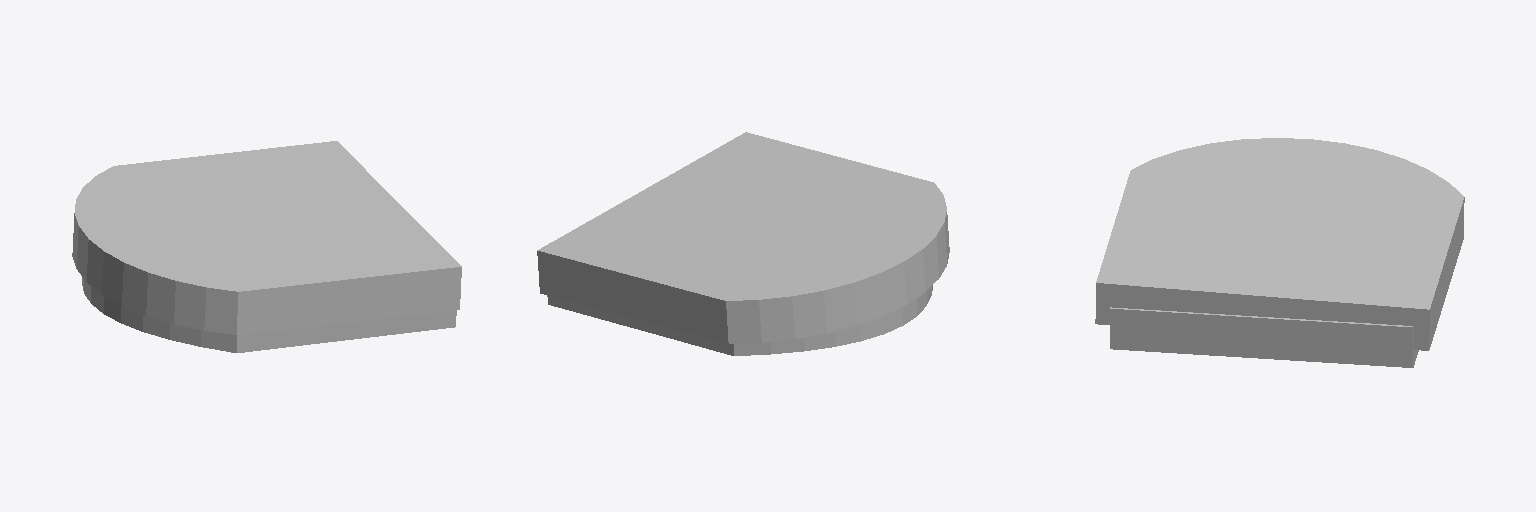
Rendered from chairseat.obj.
3 views of the same model, side by side, from view 1: azimuth 30°, elevation 25°; view 2: azimuth 150°, elevation 25°; view 3: azimuth 270°, elevation 25° (orthographic).
Parts seen in each view (by area): view 1: group_3.007_ID34, group_6.002_ID83; view 2: group_3.007_ID34, group_6.002_ID83; view 3: group_3.007_ID34, group_6.002_ID83.
Part boxes in pixels (x1,y1,x2,y2): group_3.007_ID34: (72, 141, 461, 334); group_6.002_ID83: (82, 277, 456, 352); group_3.007_ID34: (537, 132, 949, 343); group_6.002_ID83: (547, 285, 932, 355); group_3.007_ID34: (1095, 138, 1464, 350); group_6.002_ID83: (1110, 307, 1418, 367).
Bounding box in the file's own units: 0.1588 × 0.0423 × 0.1628.